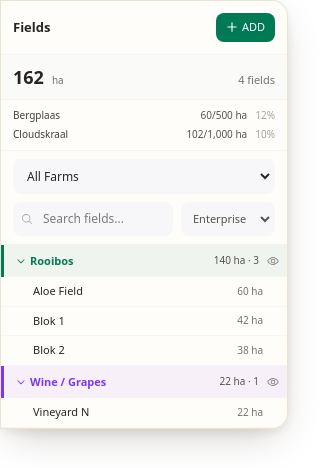
it: FieldsSidebar › typing in search filters visible rows
The width and height of the screenshot is (320, 468).
In the field with placeholder "Search fields...": [93, 218] box x1=13 y1=202 x2=173 y2=236, type "Vineyard"
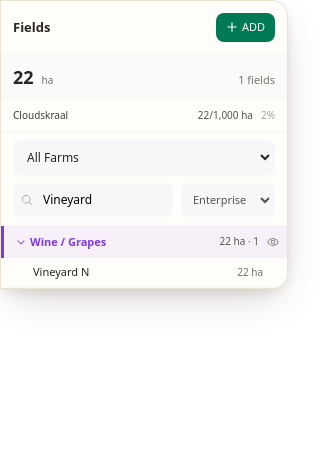
expect the text "Vineyard N" is shown: met, box x1=33 y1=264 x2=89 y2=280
expect the button "Blok 1" is gone: met
